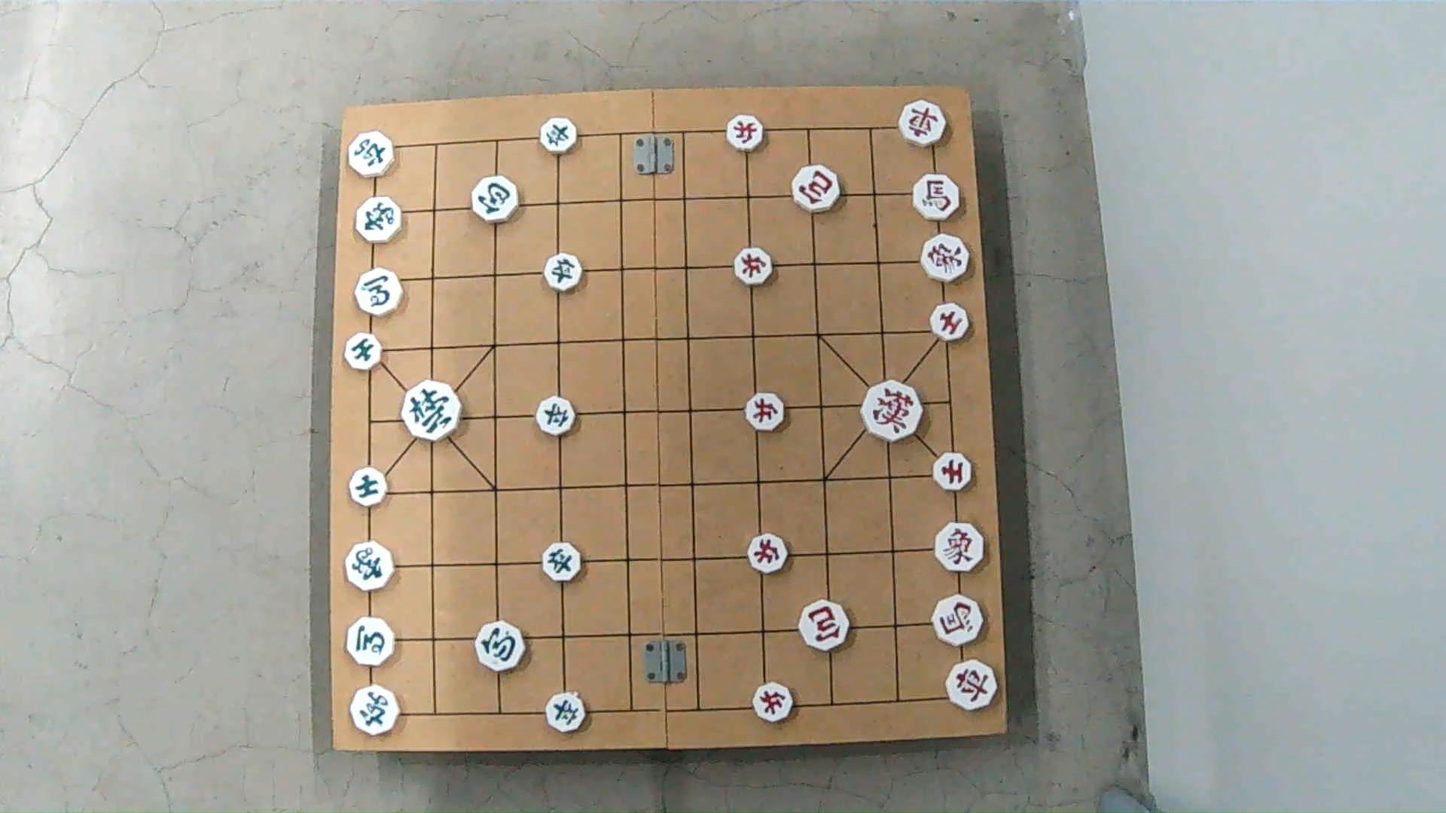cha_green: (350, 689, 404, 735), (346, 128, 398, 175)
cha_red: (946, 662, 1001, 708), (896, 101, 947, 146)
jol_green: (545, 696, 590, 732), (538, 544, 583, 580), (541, 257, 585, 292), (537, 399, 579, 434), (537, 120, 578, 153)
jol_red: (749, 536, 794, 572), (742, 395, 787, 430), (751, 685, 794, 720), (731, 251, 773, 285), (725, 117, 767, 151)
ma_green: (346, 618, 398, 665), (354, 270, 404, 313)
ma_red: (933, 599, 987, 644), (909, 175, 961, 217)
po_green: (473, 624, 526, 668), (471, 178, 523, 220)
po_red: (796, 604, 849, 648), (793, 168, 844, 211)
sa_green: (348, 471, 390, 506), (343, 336, 383, 370)
sa_red: (929, 304, 971, 343), (933, 452, 975, 489)
sang_green: (353, 195, 407, 248), (344, 546, 398, 591)
sang_red: (933, 519, 987, 569), (918, 238, 970, 282)
wang_green: (399, 383, 462, 439)
wang_red: (861, 385, 923, 440)
